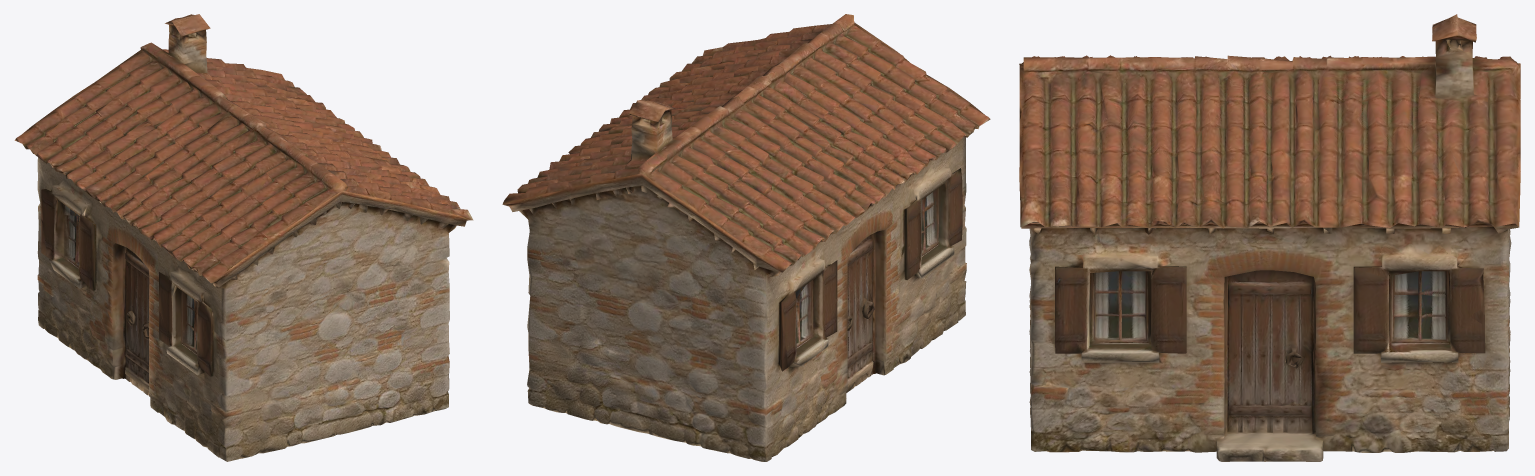
The model's file is house-cottage.glb.
3 renders of one model, left to right at view 1: azimuth 30°, elevation 25°; view 2: azimuth 150°, elevation 25°; view 3: azimuth 270°, elevation 25°, orthographic. The views are drawn at different scales.
Visible parts, largest first — view 1: tripo_node_828b5294-a768-426c-9c95-05dc79ae2954; view 2: tripo_node_828b5294-a768-426c-9c95-05dc79ae2954; view 3: tripo_node_828b5294-a768-426c-9c95-05dc79ae2954.
Boxes of the visible parts, x1,y1,x2,y2 form: tripo_node_828b5294-a768-426c-9c95-05dc79ae2954: (14, 14, 473, 461); tripo_node_828b5294-a768-426c-9c95-05dc79ae2954: (502, 14, 990, 461); tripo_node_828b5294-a768-426c-9c95-05dc79ae2954: (1019, 14, 1520, 461).
Bounding box in the file's own units: 0.7751 × 0.8149 × 1.
1 material, 1 textured.
